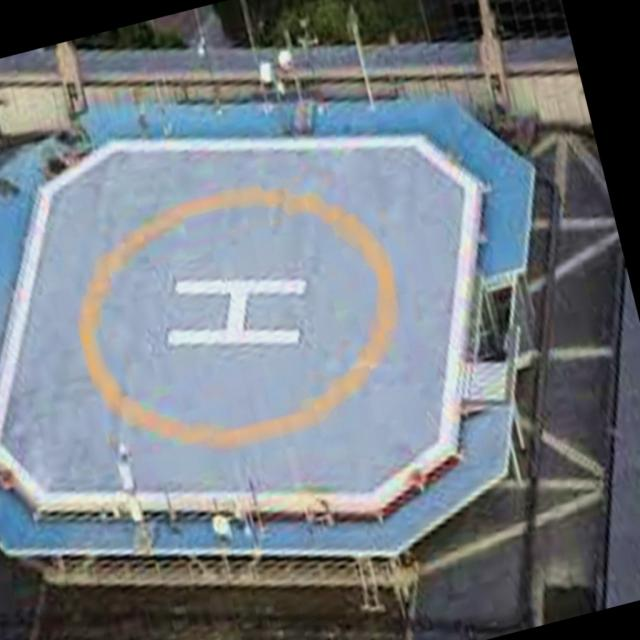helipad: (70, 175, 404, 453)
